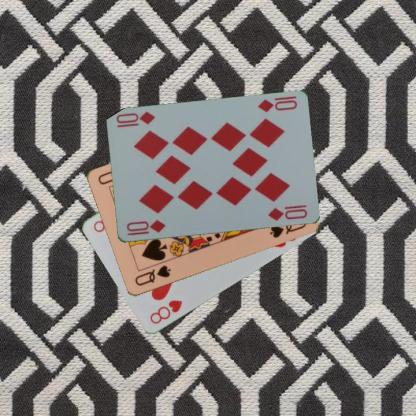10d: (255, 94, 298, 114), (124, 217, 166, 237)
8h: (146, 297, 184, 326)
Qs: (132, 263, 172, 288)
